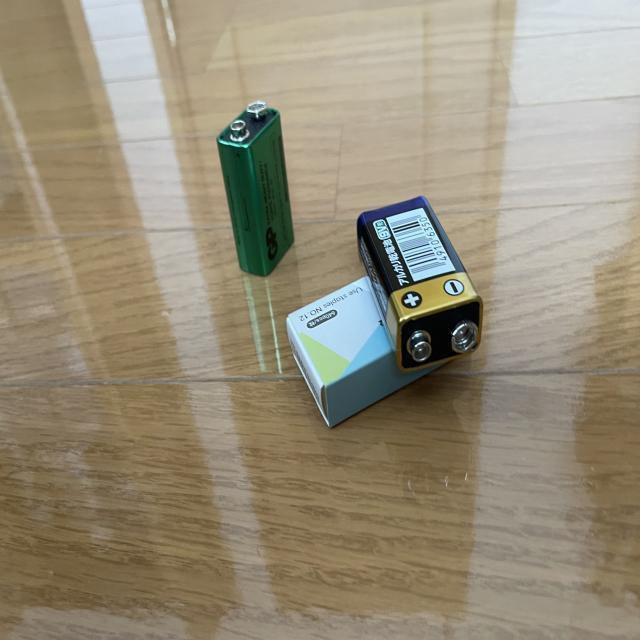9V: (357, 195, 483, 373), (216, 102, 295, 278)
